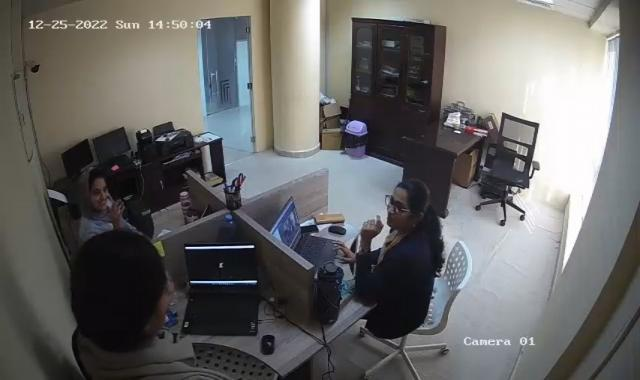no_hairnet: (70, 232, 168, 347), (384, 177, 430, 231), (77, 167, 111, 214)
